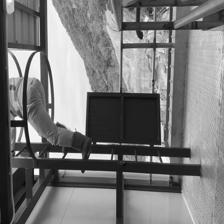Feet: (22, 69, 100, 153)
Ladder: (2, 129, 207, 184)
